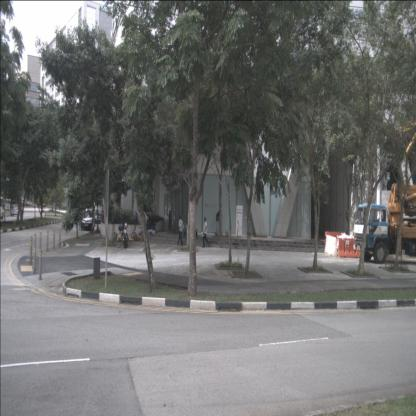human-pedestrian-adult: (202, 217, 210, 248), (176, 215, 184, 246), (214, 210, 220, 236), (146, 220, 156, 235), (168, 211, 172, 233), (183, 224, 187, 239)
movable_object-barrier: (338, 238, 362, 258), (324, 231, 346, 252), (324, 234, 337, 257)
vehicle-bicycle: (130, 225, 144, 242), (114, 232, 133, 244)
vehicle-car: (80, 207, 95, 231), (94, 211, 105, 225), (10, 204, 21, 217), (0, 196, 5, 220)
vehicle-motorcycle: (118, 222, 129, 249)
